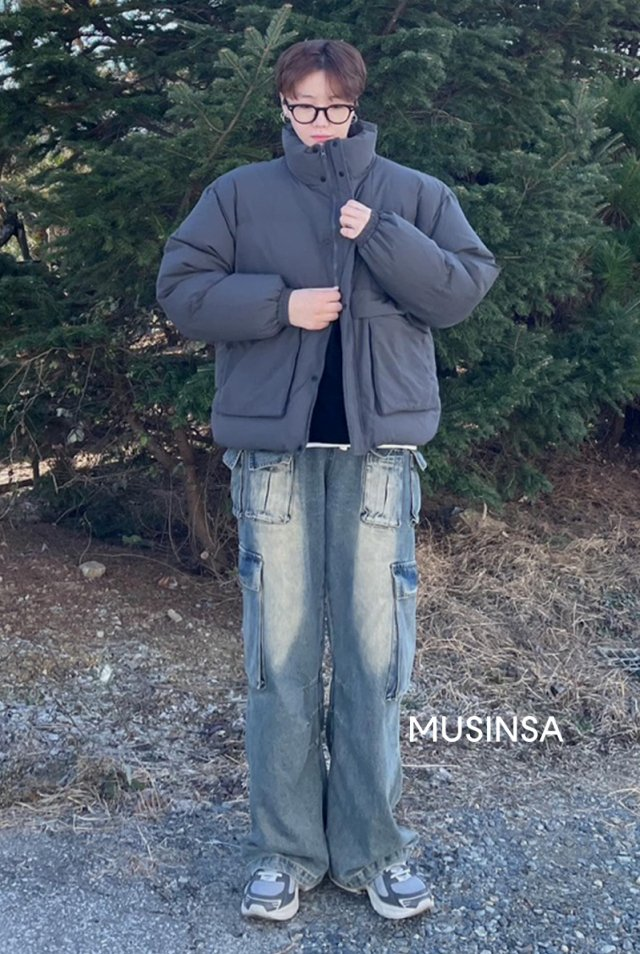Bubble jacket: (146, 124, 506, 451)
Glasses: (278, 95, 360, 125)
Jeans: (218, 439, 425, 880)
Shoes: (242, 848, 447, 923)
